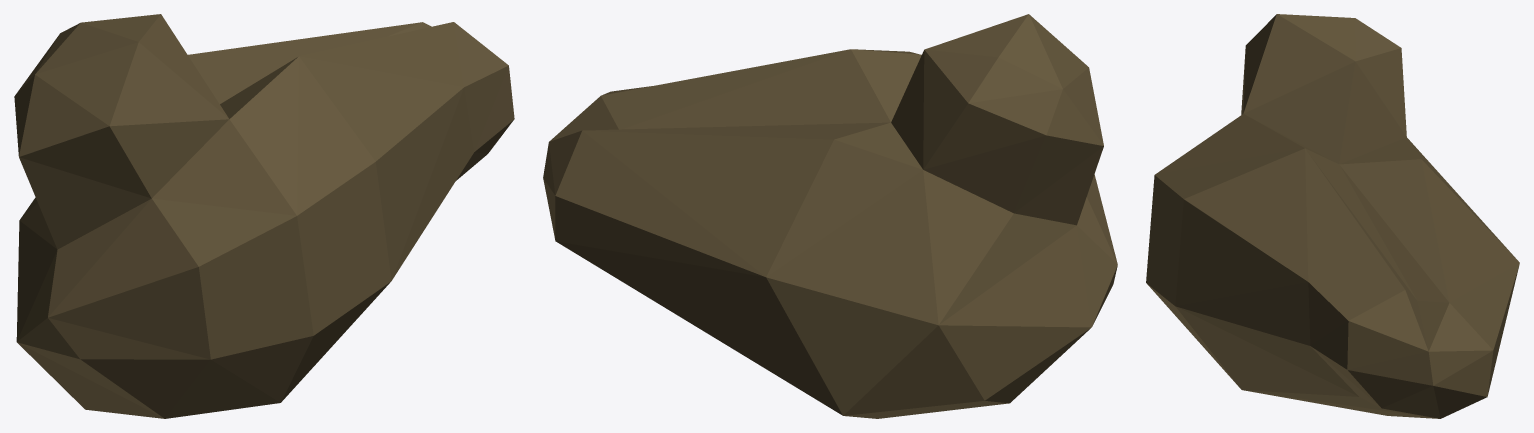
Rendered from ant-cox-front-right.dae.
3 renders of one model, left to right at view 1: azimuth 30°, elevation 25°; view 2: azimuth 150°, elevation 25°; view 3: azimuth 270°, elevation 25°, orthographic. The views are drawn at different scales.
Visible parts, largest first — view 1: ant-cox-front-right; view 2: ant-cox-front-right; view 3: ant-cox-front-right.
Part boxes in pixels (x1,y1,x2,y2): ant-cox-front-right: (14,14,514,418); ant-cox-front-right: (543,14,1117,418); ant-cox-front-right: (1146,14,1519,418).
Bounding box in the file's own units: 2.45 × 1.71 × 1.82.
